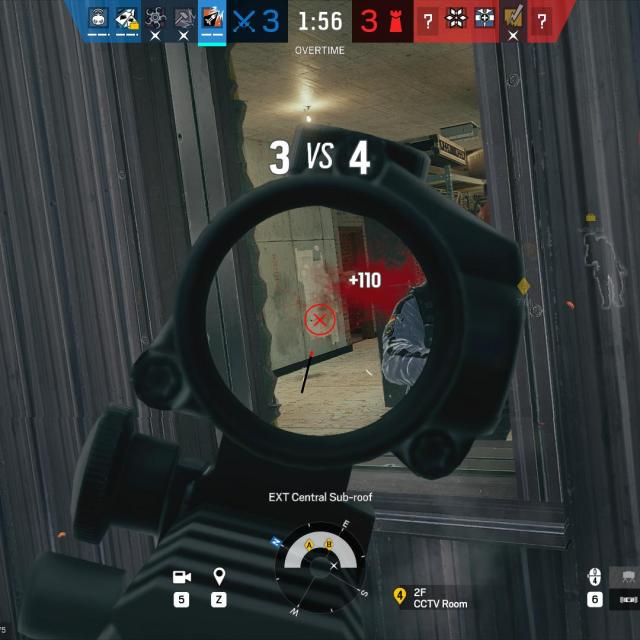Character: (382, 274, 439, 388)
Friend_label: (577, 212, 606, 233)
